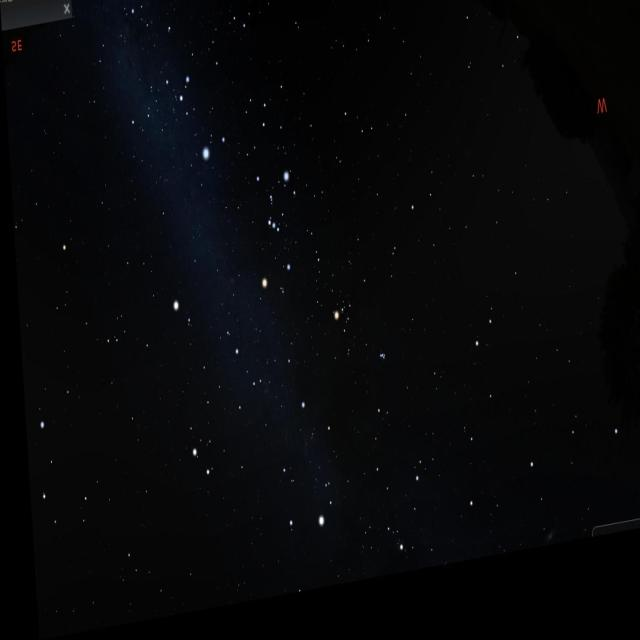canis_major: (170, 68, 230, 181)
canis_minor: (166, 293, 190, 350)
gemini: (177, 348, 259, 493)
orion: (248, 172, 297, 304)
pleiades: (369, 358, 383, 379)
taurus: (322, 288, 386, 396)
